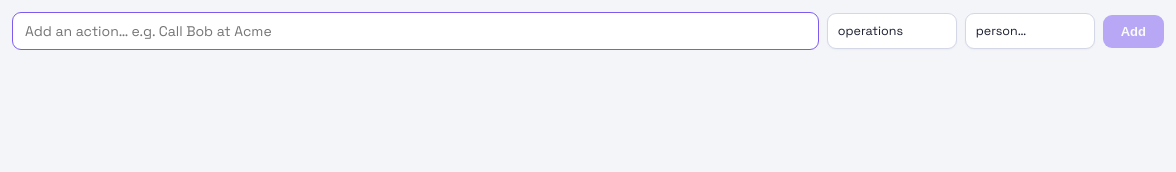
Scenario: QuickAdd (embedded, debounced inference) › a manual area choice is not overridden by inference
The width and height of the screenshot is (1176, 172).
Check: the field with placeholder "Add an action… e.g. Call Bob at Acme" is shown, box [12,12,819,50]
Note: choose rnd before typing
Select "rnd" in the dropdown titled "type" at {"x": 892, "y": 31}, box [827,13,957,49]
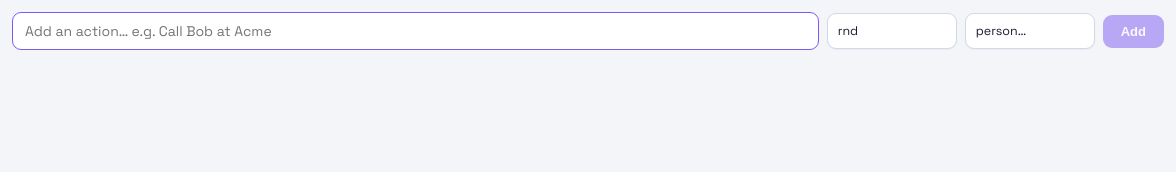
Type "benchmark the db" into the field with placeholder "Add an action… e.g. Call Bob at Acme" at {"x": 415, "y": 31}, box [12,12,819,50]
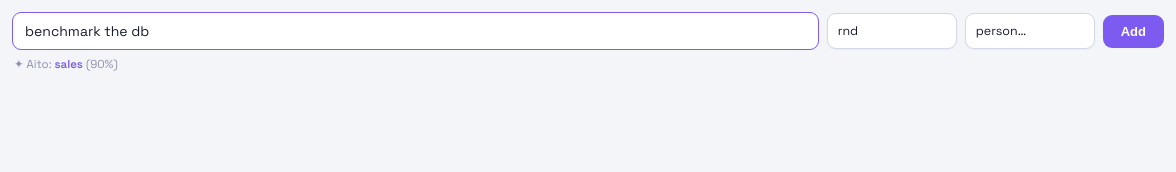
Check: the text "✦ Aito: sales (90%)" is shown, box [14,57,118,71]
